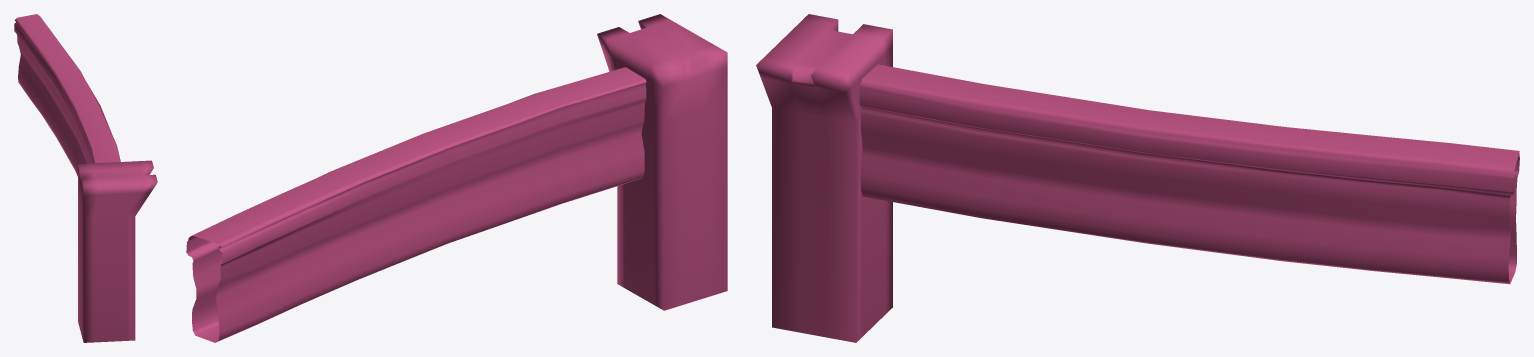
Rendered from arena_barriere_02.fbx.
3 renders of one model, left to right at view 1: azimuth 30°, elevation 25°; view 2: azimuth 150°, elevation 25°; view 3: azimuth 270°, elevation 25°, orthographic. The views are drawn at different scales.
Parts seen in each view (by area): view 1: Bariere; view 2: Bariere; view 3: Bariere.
Part boxes in pixels (x1,y1,x2,y2): Bariere: [14, 14, 157, 342]; Bariere: [186, 14, 727, 342]; Bariere: [756, 14, 1519, 342].
Size of the model in its own units: 2.3 by 2.2 by 5.48.
